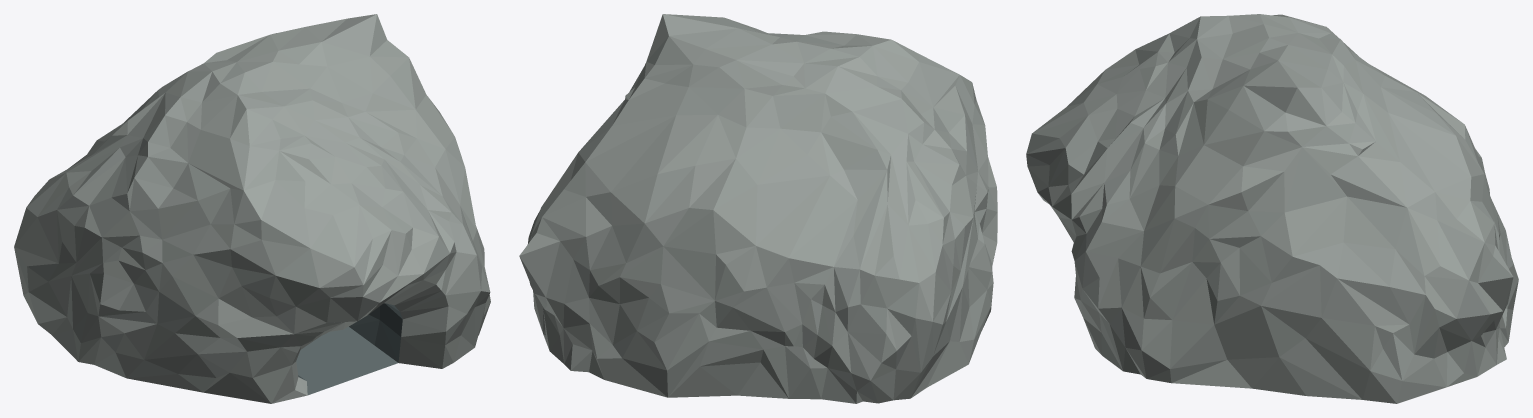
File: Cave.fbx
The picture shows the model from 3 angles, left to right: view 1: azimuth 30°, elevation 25°; view 2: azimuth 150°, elevation 25°; view 3: azimuth 270°, elevation 25°; orthographic projection.
Visible parts, largest first — view 1: Cave; view 2: Cave; view 3: Cave.
Part boxes in pixels (box(x1,y1,x2,y2)): Cave: box(14, 14, 490, 403); Cave: box(519, 14, 997, 403); Cave: box(1026, 14, 1518, 403).
Bounding box in the file's own units: 691 × 460 × 740.
